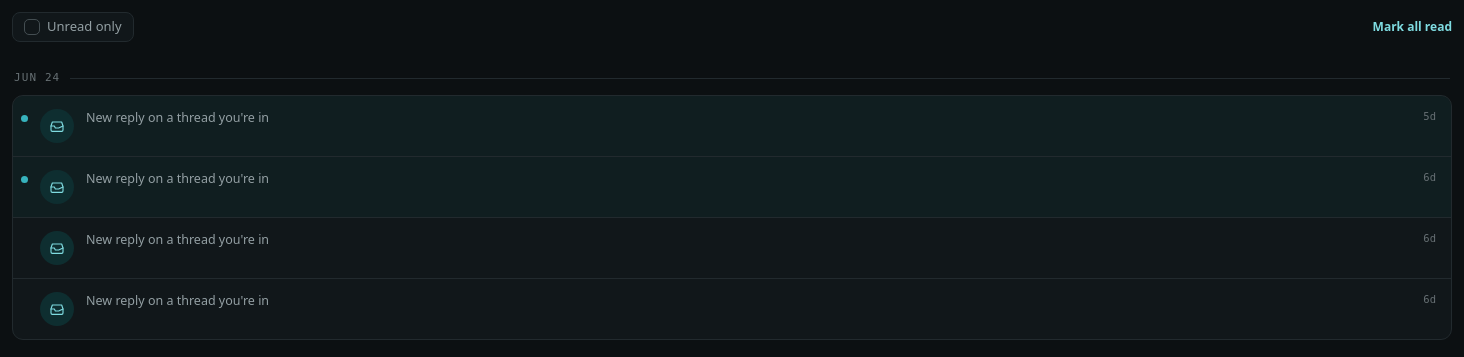
Test case: For-you inbox — manage unread (your-activity-inbox S-002) › AS-009: 'Unread only' shows only unread rows; off restores the full list; empty shows 'No unread items'
This screenshot has width=1464, height=357.
Expected: the button with test id "inbox-row-u1" is shown, [13,96,1451,156]
Note: On: only the two unread rows remain.
Click the button with test id "inbox-unread-toggle".
click(73, 27)  # box [12,12,134,42]
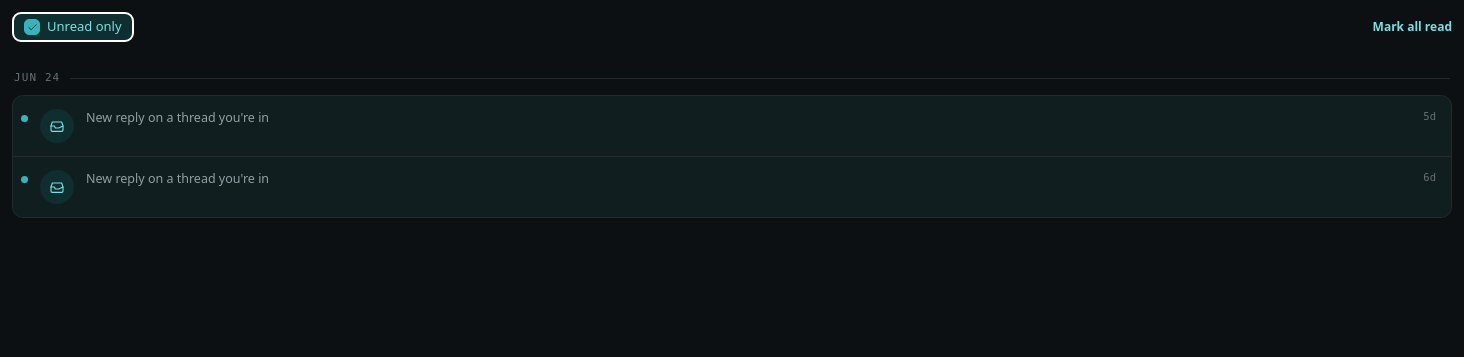
Expected: the button with test id "inbox-row-u1" is shown, [13,96,1451,156]
Expected: the button with test id "inbox-row-r1" is gone
Note: Off again: the full list is restored.
Click the button with test id "inbox-unread-toggle".
click(73, 27)  # box [12,12,134,42]
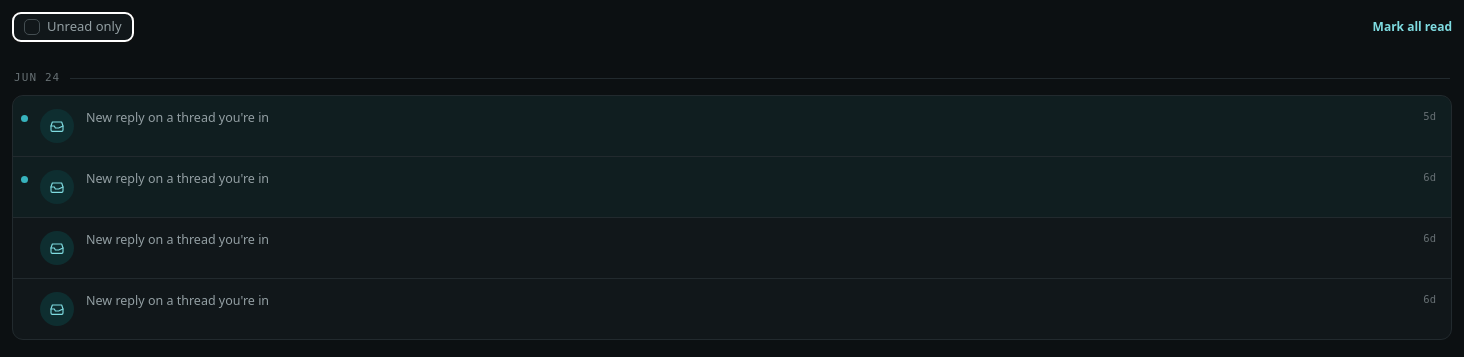
Expected: the button with test id "inbox-row-r1" is shown, [13,218,1451,278]
